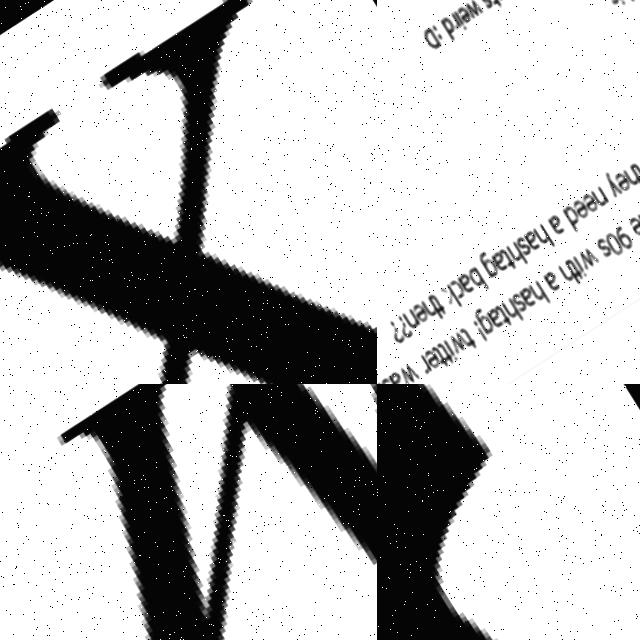0: (602, 233, 625, 262)
9: (612, 228, 634, 255)
M: (5, 384, 377, 640)
S: (377, 384, 640, 640)
X: (0, 0, 377, 384)
